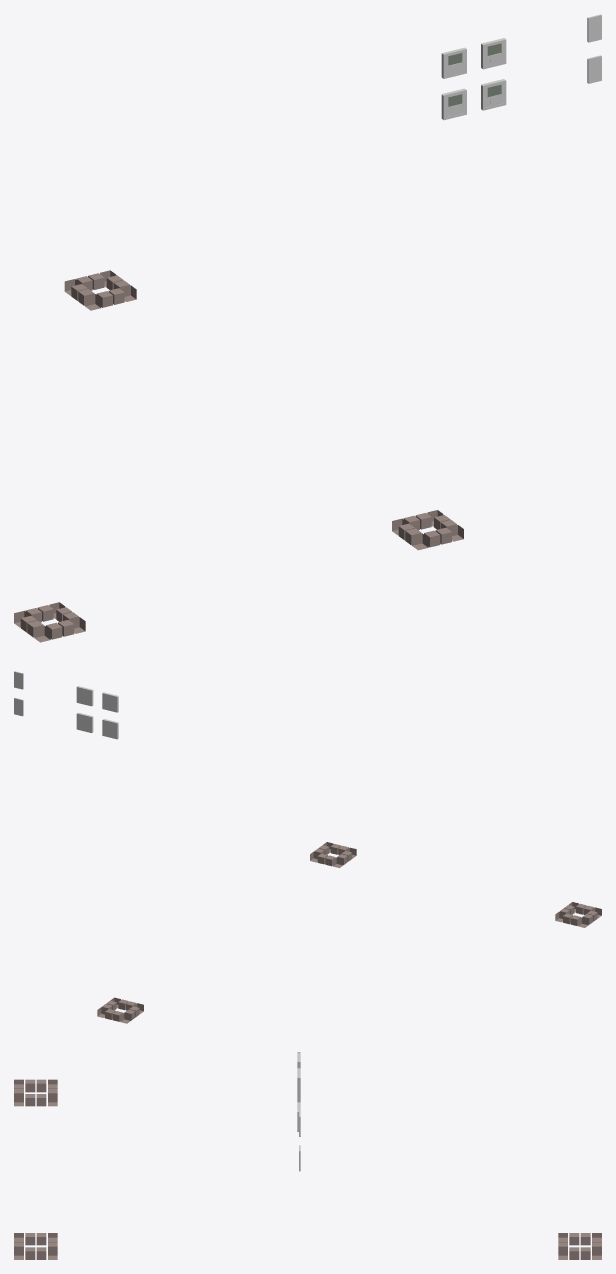
The picture shows the model from 3 angles, top to bottom: view 1: azimuth 30°, elevation 25°; view 2: azimuth 150°, elevation 25°; view 3: azimuth 270°, elevation 25°; orthographic projection. The views are drawn at different scales.
Size of the model in its own units: 3.73 by 1.57 by 3.11.
